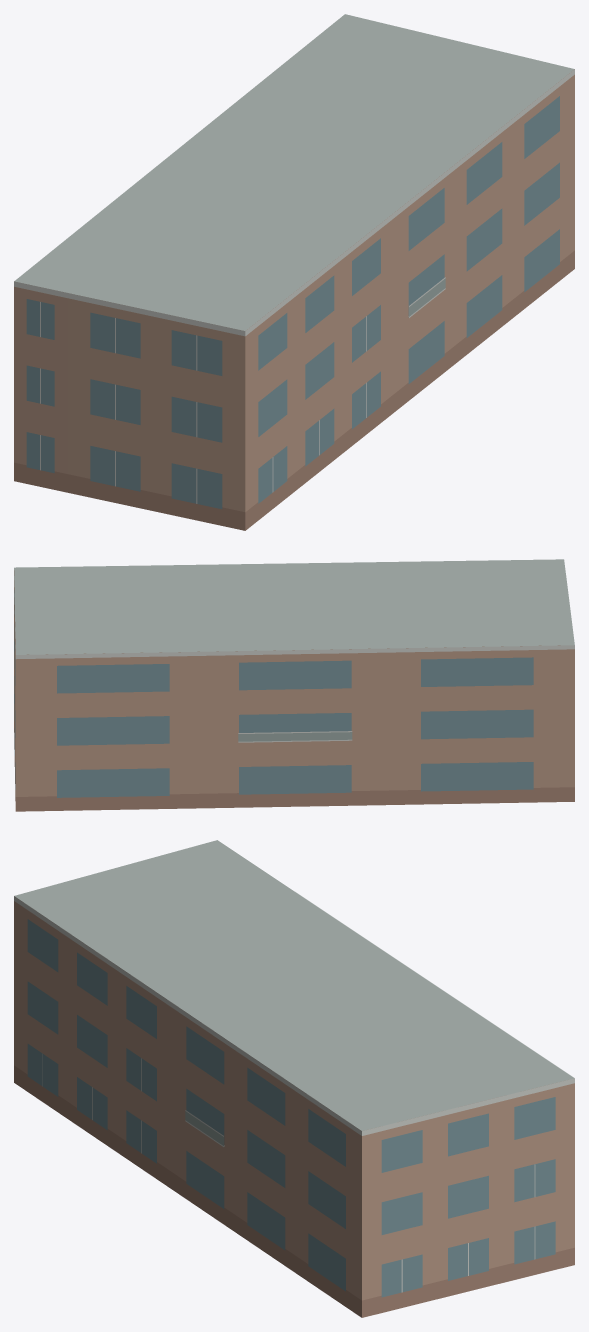
File: survey-upis-32621532.glb
The picture shows the model from 3 angles, top to bottom: view 1: azimuth 30°, elevation 25°; view 2: azimuth 150°, elevation 25°; view 3: azimuth 270°, elevation 25°; orthographic projection. The views are drawn at different scales.
Parts seen in each view (by area): view 1: survey-upis-32621532.tmp; view 2: survey-upis-32621532.tmp; view 3: survey-upis-32621532.tmp.
Boxes of the visible parts, x1,y1,x2,y2 form: survey-upis-32621532.tmp: (14, 14, 574, 530); survey-upis-32621532.tmp: (14, 559, 574, 811); survey-upis-32621532.tmp: (14, 840, 574, 1317).
Size of the model in its own units: 30.59 by 9.15 by 24.91.
